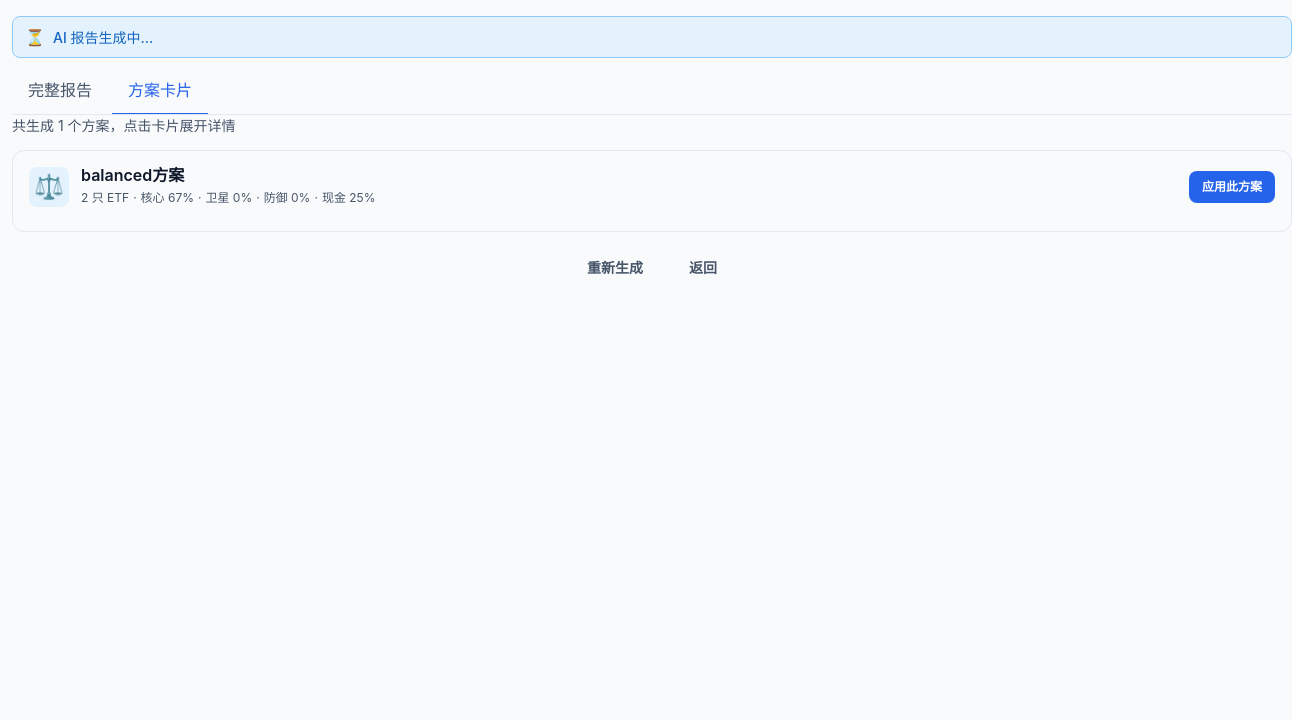
DesignResult round25 R41-b 近替代品告警 › unevaluated 条目渲染（r 缺失标注待复算）
What coordinates should you click on to do the following:
click the element with class "plan-card"
I would click on:
 (652, 191)
Its box is [12, 150, 1291, 232].
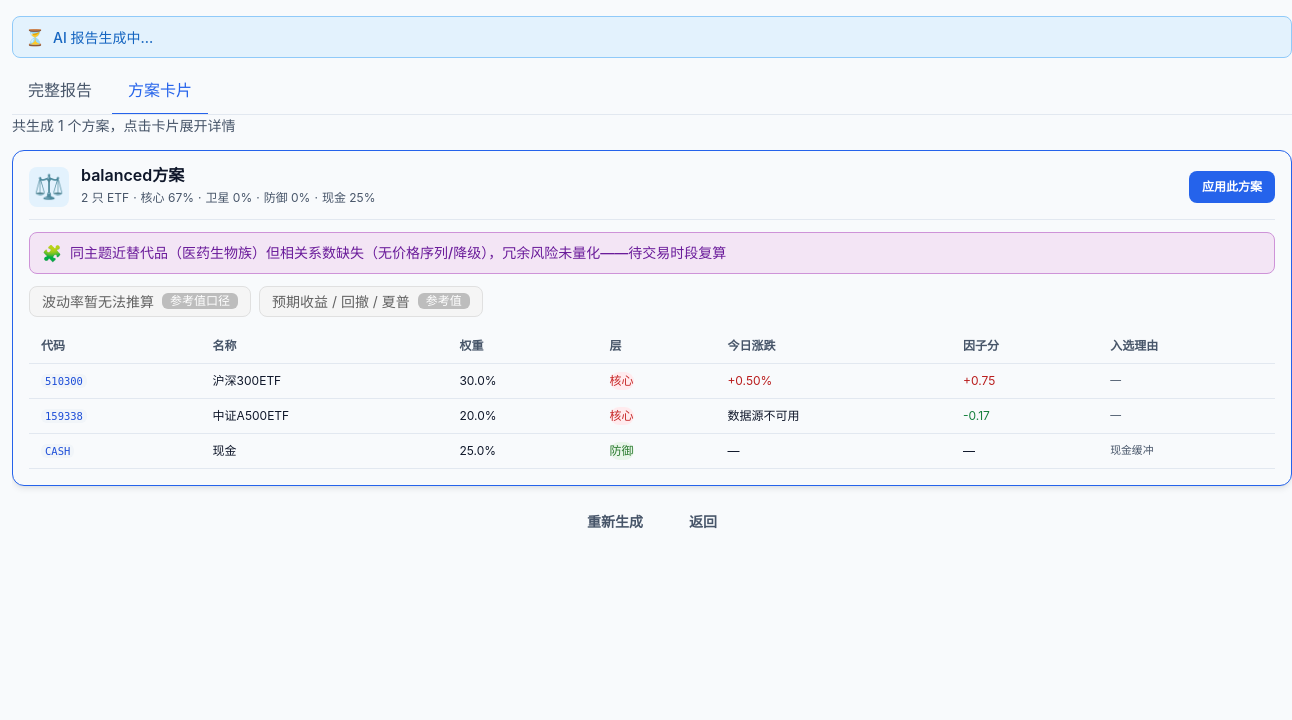
Check: the message "🧩 同主题近替代品（医药生物族）但相关系数缺失（无价格序列/降级），冗余风险未量化——待交易时段复算" is shown, box [29, 232, 1275, 274]
Check: the message with class "corr-substitute-note" shows "医药生物", box [70, 244, 726, 261]
